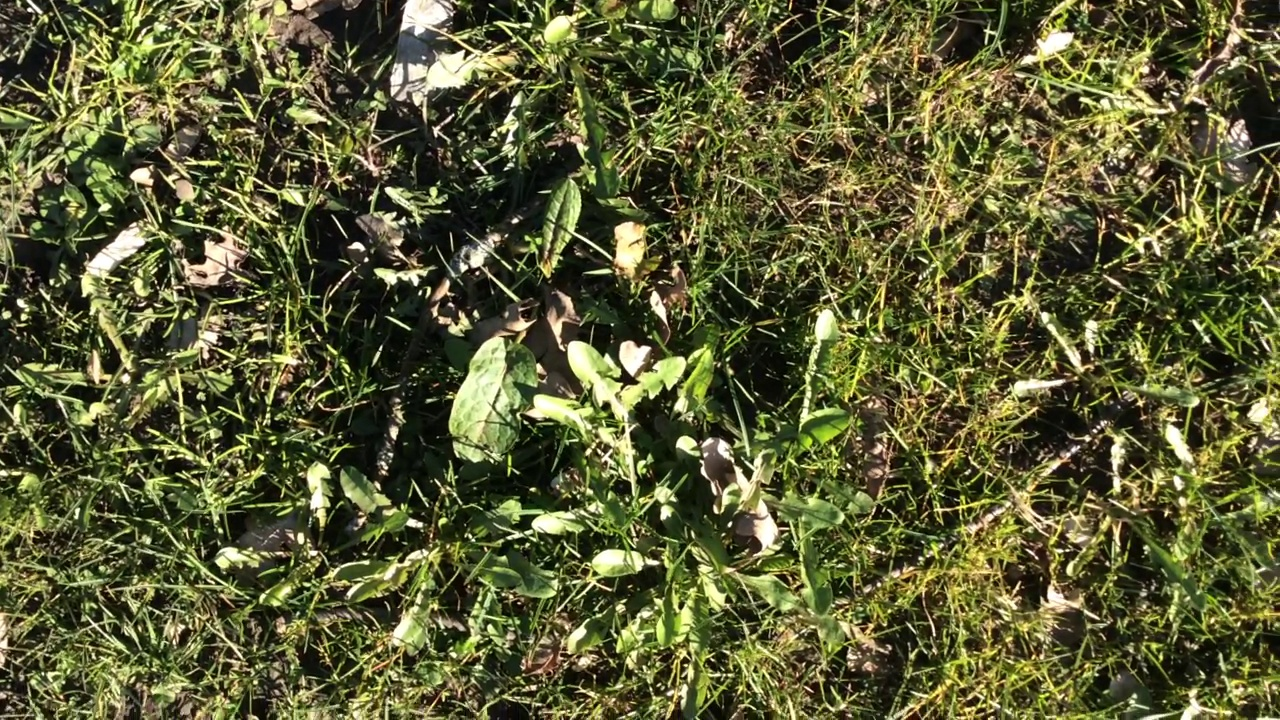rumex: (447, 337, 543, 473), (543, 175, 582, 273)
